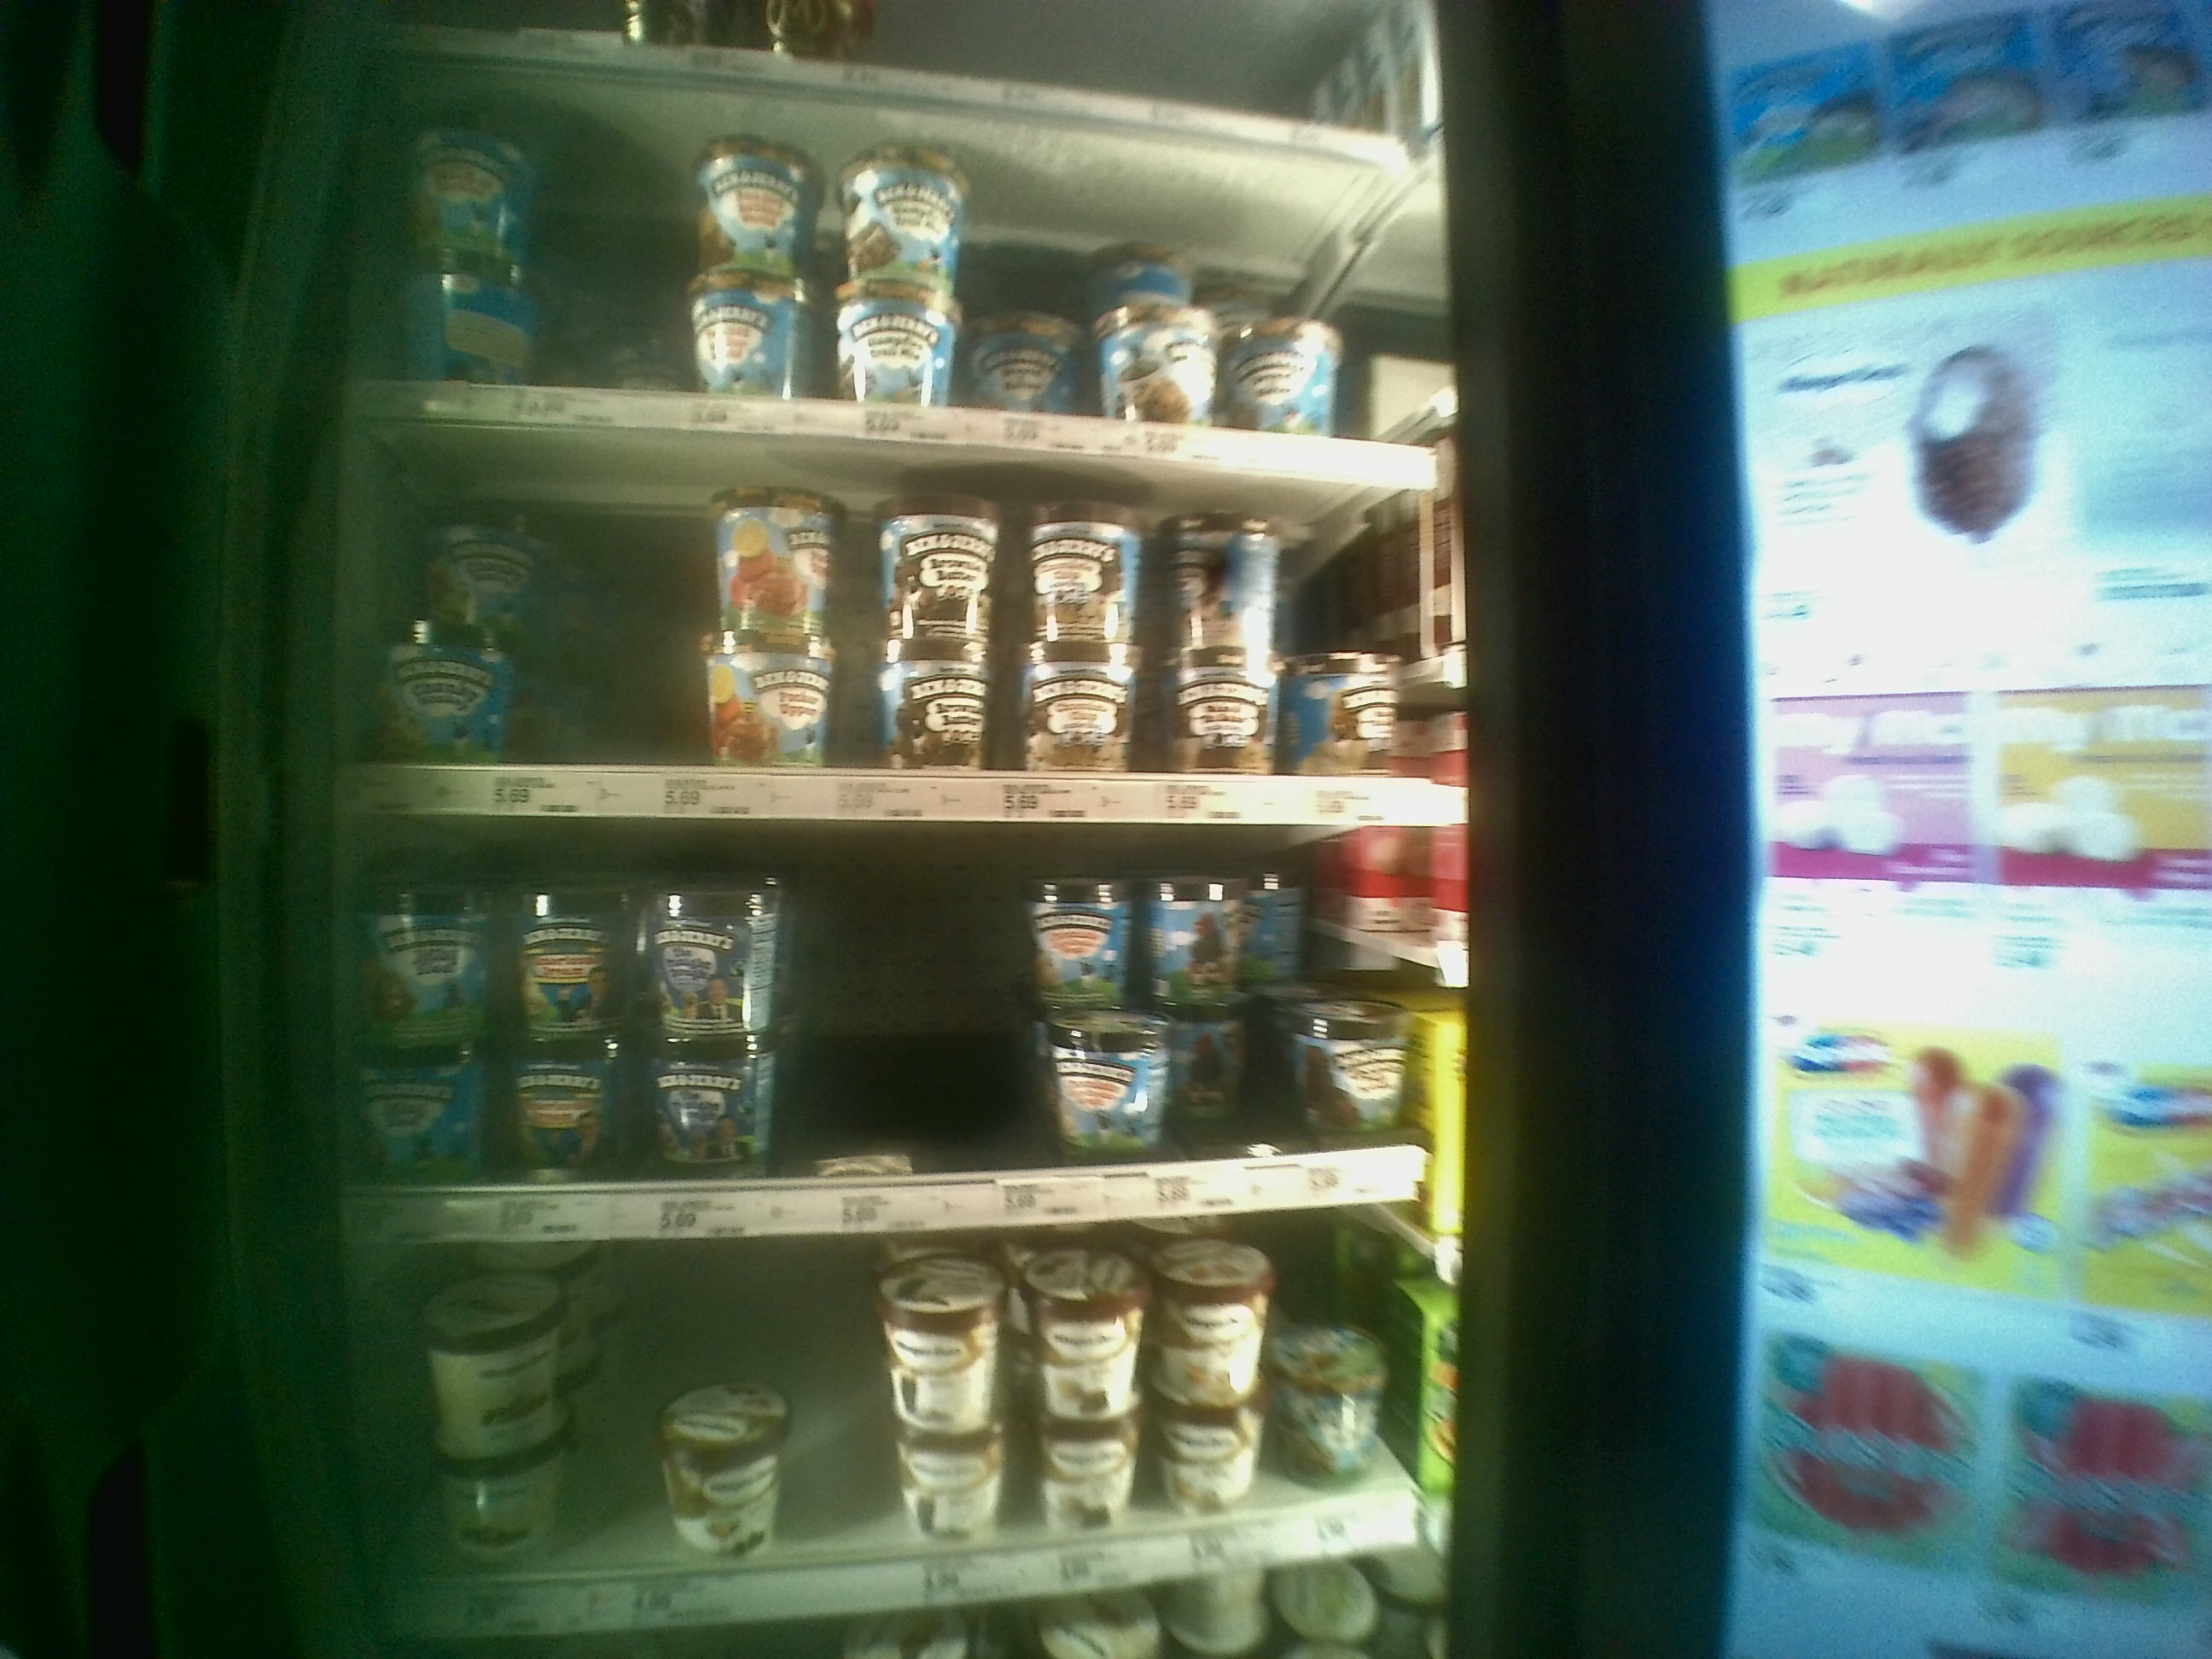ice-cream-shelf: (331, 809, 1475, 1229)
